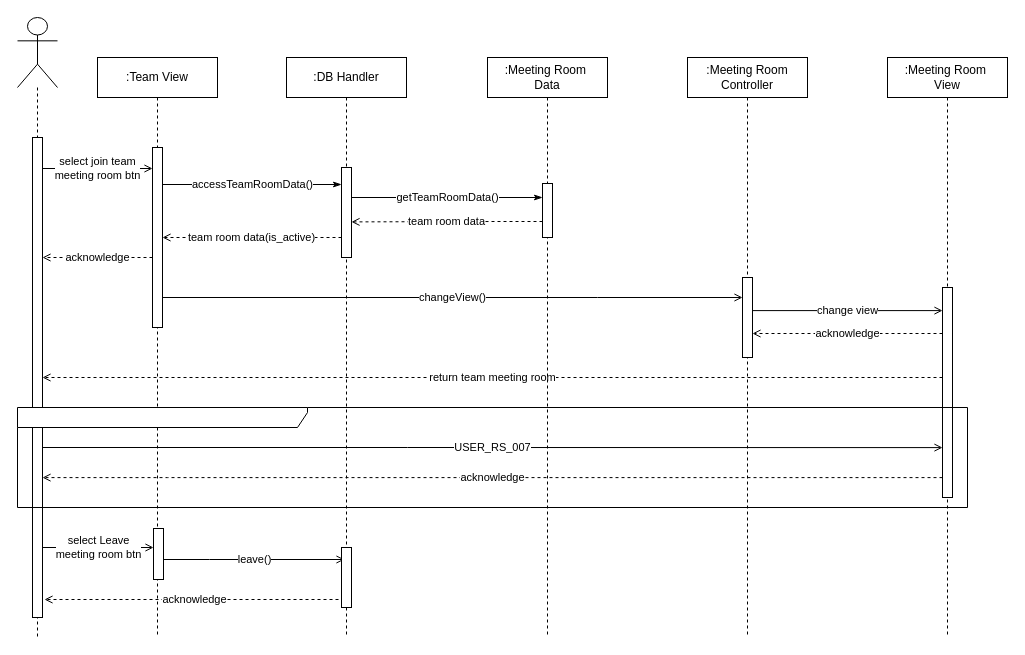
Some shapes in this 1025 by 655 pixel diagram are drawn without their labels. The box of each missing label's shape, as (x1, y1, x2, y2) in pixels:
Use meeting room module (USER_RS_007): (16, 406, 968, 508)
User: (16, 16, 58, 638)
